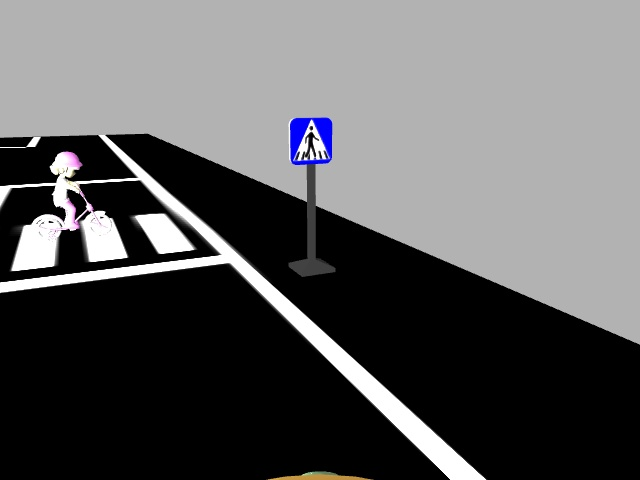Crosswalk: (284, 115, 335, 165)
Pedestrian: (30, 149, 117, 242)
